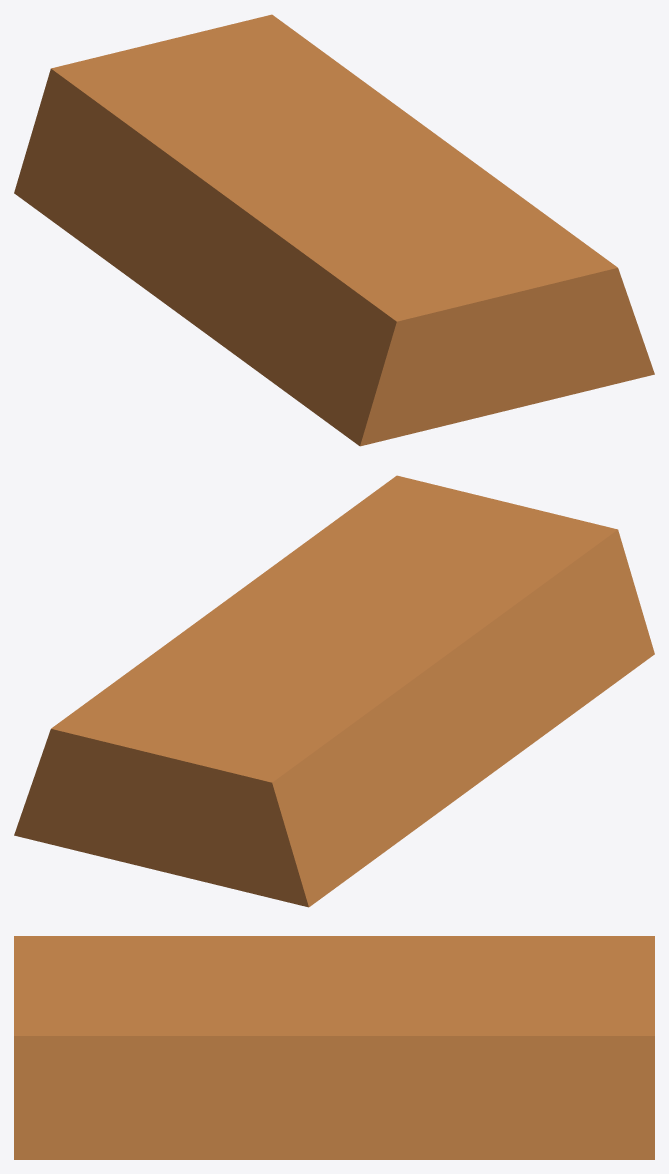
The model's file is copper_ingot.glb.
The picture shows the model from 3 angles, top to bottom: view 1: azimuth 30°, elevation 25°; view 2: azimuth 150°, elevation 25°; view 3: azimuth 270°, elevation 25°; orthographic projection. The views are drawn at different scales.
Visible parts, largest first — view 1: Copper ingot Copper ingot; view 2: Copper ingot Copper ingot; view 3: Copper ingot Copper ingot.
Part boxes in pixels (left/top/right/bottom): Copper ingot Copper ingot: left=14, top=14, right=654, bottom=446; Copper ingot Copper ingot: left=14, top=475, right=654, bottom=907; Copper ingot Copper ingot: left=14, top=936, right=654, bottom=1159.
Bounding box in the file's own units: 0.64 × 0.24 × 1.3.
